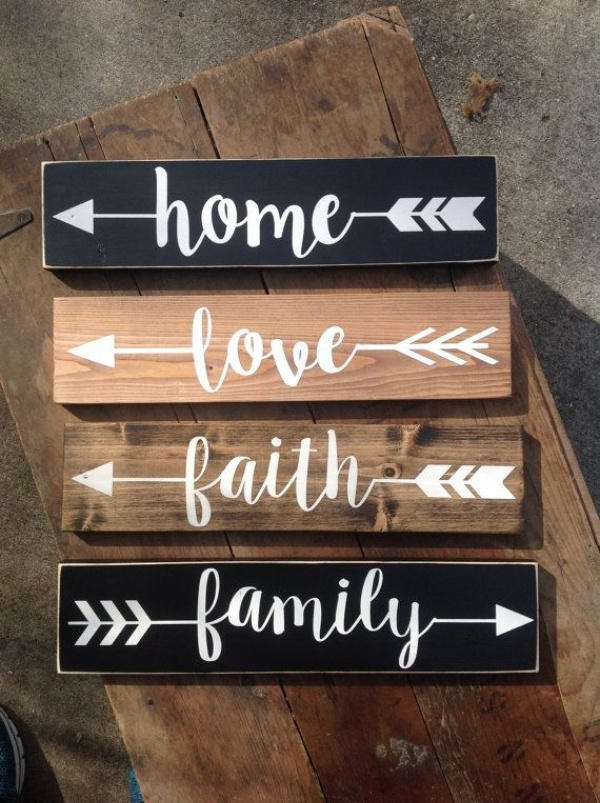text: (209, 567, 224, 669), (225, 567, 240, 669), (241, 567, 256, 669), (257, 567, 272, 669), (273, 567, 288, 669), (289, 567, 304, 669), (305, 567, 320, 669), (321, 567, 336, 669), (337, 567, 352, 669), (353, 567, 368, 669), (369, 567, 384, 669), (385, 567, 400, 669), (401, 567, 416, 669), (417, 567, 432, 669), (193, 429, 208, 529), (209, 429, 224, 529), (225, 429, 240, 529), (241, 429, 256, 529), (257, 429, 272, 529), (273, 429, 288, 529), (289, 429, 304, 529), (305, 429, 320, 529), (321, 429, 336, 529), (337, 429, 352, 529), (353, 429, 368, 529), (369, 429, 384, 529), (161, 165, 176, 260), (177, 165, 192, 260), (193, 165, 208, 260), (209, 165, 224, 260), (225, 165, 240, 260), (241, 165, 256, 260), (257, 165, 272, 260), (273, 165, 288, 260), (289, 165, 304, 260), (305, 165, 320, 260), (321, 165, 336, 260), (337, 165, 352, 260), (193, 305, 208, 395), (209, 305, 224, 395), (225, 305, 240, 395), (241, 305, 256, 395), (257, 305, 272, 395), (273, 305, 288, 395), (289, 305, 304, 395), (305, 305, 320, 395), (321, 305, 336, 395), (337, 305, 352, 395), (196, 567, 208, 669), (186, 429, 192, 529), (154, 165, 160, 260), (385, 429, 390, 529), (353, 305, 357, 395), (433, 567, 435, 669), (353, 165, 355, 260), (191, 305, 192, 395)
